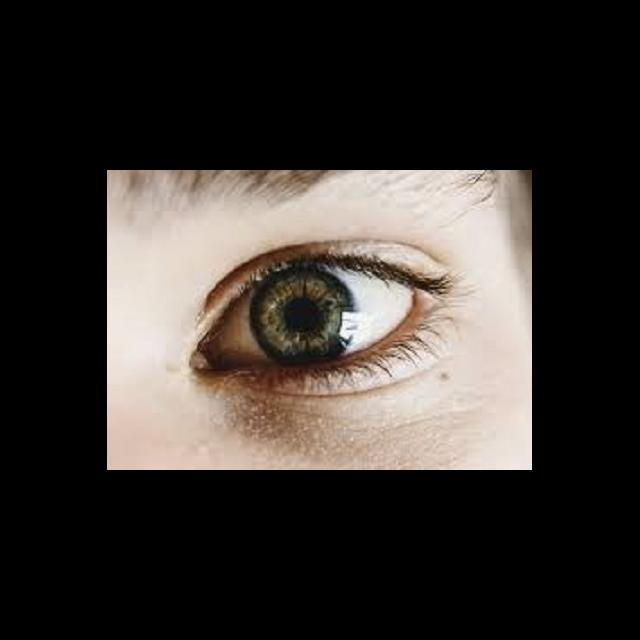eye: (213, 263, 416, 369)
iris: (251, 269, 357, 361)
